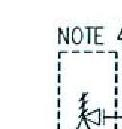psv: (73, 91, 105, 129)
